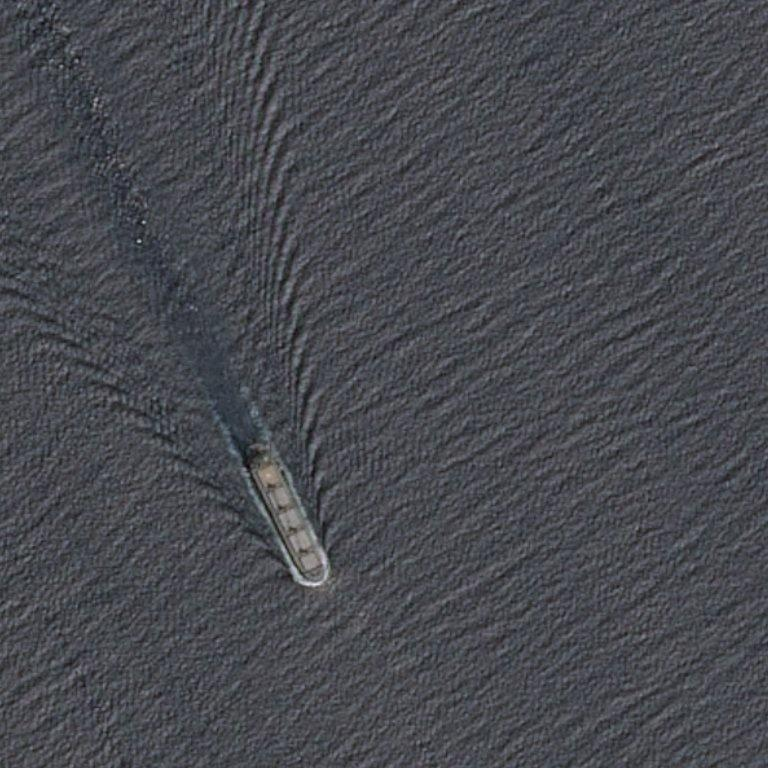ship: (239, 437, 336, 589)
